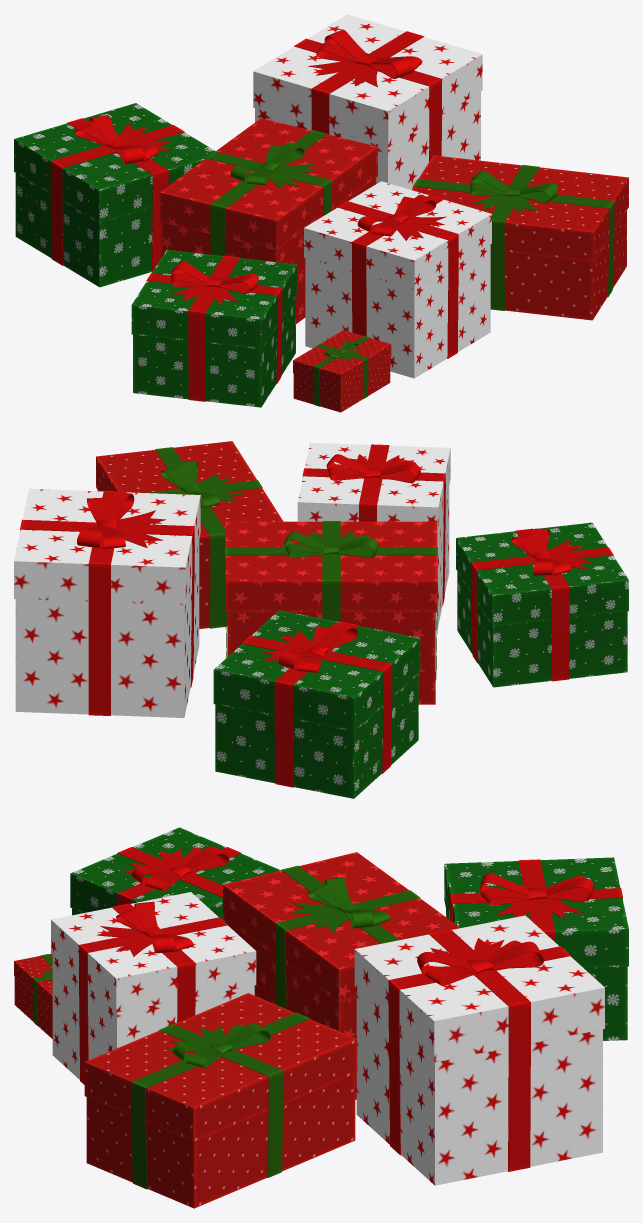
The model's file is game_ready__free_christmas_gifts.glb.
3 renders of one model, top to bottom at view 1: azimuth 30°, elevation 25°; view 2: azimuth 150°, elevation 25°; view 3: azimuth 270°, elevation 25°, orthographic. The views are drawn at different scales.
Parts seen in each view (by area): view 1: Christmas_Gift_Extra, Christmas_Gift_01_Christmas_Gifts_0, Christmas_Gift_04_Christmas_Gifts_0, Christmas_Gift_02_Christmas_Gifts_0, Christmas_Gift_03_Christmas_Gifts_0; view 2: Christmas_Gift_Extra, Christmas_Gift_02_Christmas_Gifts_0, Christmas_Gift_03_Christmas_Gifts_0, Christmas_Gift_01_Christmas_Gifts_0, Christmas_Gift_04_Christmas_Gifts_0; view 3: Christmas_Gift_Extra, Christmas_Gift_04_Christmas_Gifts_0, Christmas_Gift_01_Christmas_Gifts_0, Christmas_Gift_03_Christmas_Gifts_0, Christmas_Gift_02_Christmas_Gifts_0.
Part boxes in pixels (box(x1,y1,x2,y2)): Christmas_Gift_Extra: box(14, 14, 482, 412); Christmas_Gift_01_Christmas_Gifts_0: box(304, 181, 491, 378); Christmas_Gift_04_Christmas_Gifts_0: box(411, 155, 628, 320); Christmas_Gift_02_Christmas_Gifts_0: box(131, 250, 297, 407); Christmas_Gift_03_Christmas_Gifts_0: box(159, 118, 377, 323); Christmas_Gift_Extra: box(14, 488, 420, 798); Christmas_Gift_02_Christmas_Gifts_0: box(456, 522, 628, 687); Christmas_Gift_03_Christmas_Gifts_0: box(225, 521, 437, 704); Christmas_Gift_01_Christmas_Gifts_0: box(297, 442, 450, 630); Christmas_Gift_04_Christmas_Gifts_0: box(96, 441, 283, 628); Christmas_Gift_Extra: box(14, 857, 628, 1185); Christmas_Gift_04_Christmas_Gifts_0: box(84, 993, 357, 1208); Christmas_Gift_01_Christmas_Gifts_0: box(51, 892, 256, 1084); Christmas_Gift_03_Christmas_Gifts_0: box(223, 852, 460, 1099); Christmas_Gift_02_Christmas_Gifts_0: box(70, 827, 280, 921).
Size of the model in its own units: 1.33 by 0.4053 by 1.23.
Materials: 1 (1 with a texture image).
